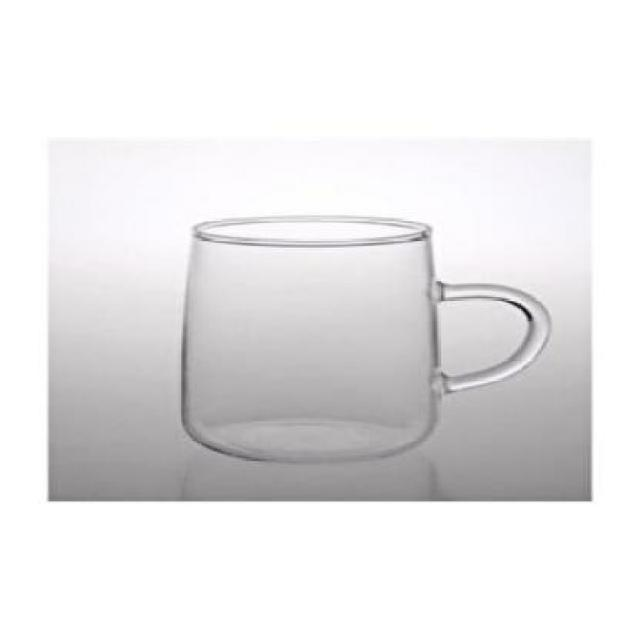taza: (178, 214, 556, 465)
